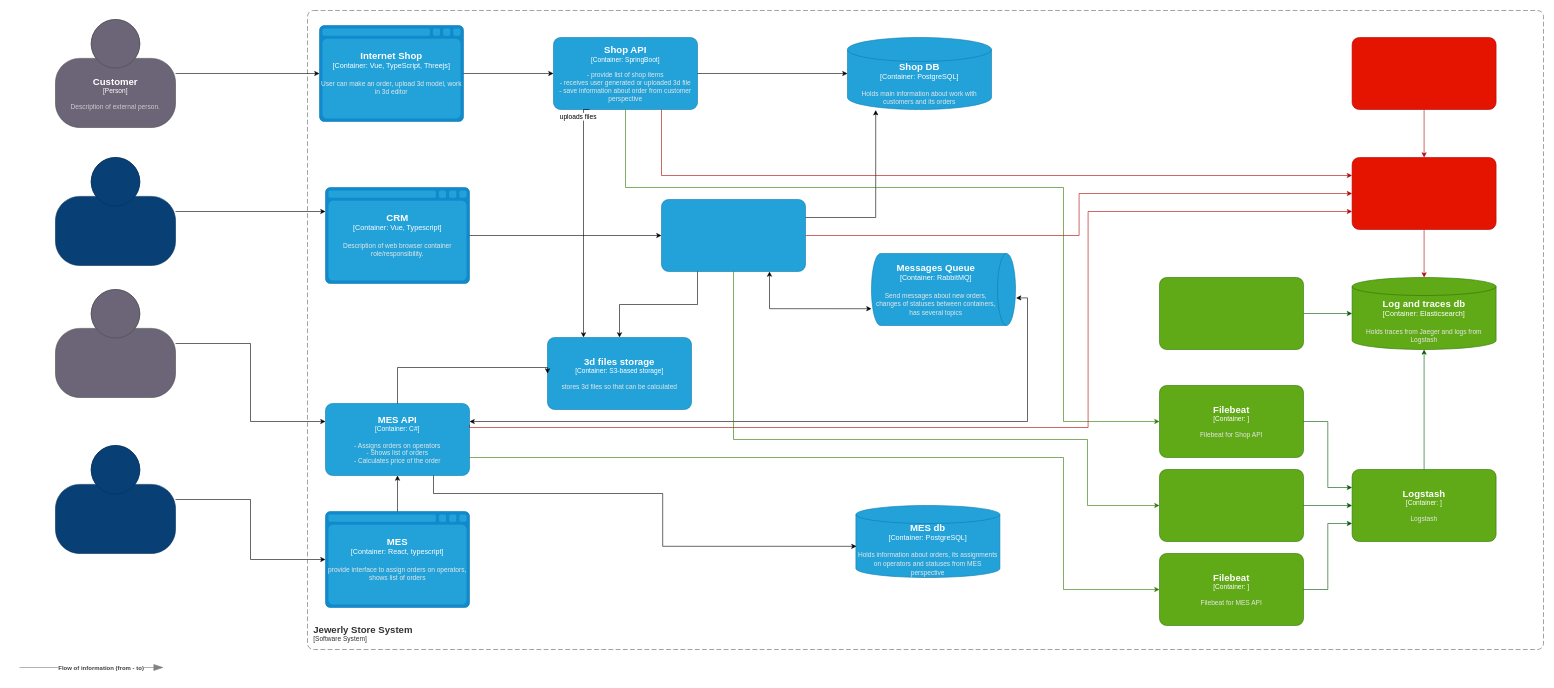
Some shapes in this 1554 by 688 pixel diagram are drawn without their labels. The centre of each missing label's shape, as x and y in pixels:
"API user [Person] Description of external person." belongs at (115,343).
"CRM API [Container: SpringBoot] Description of container role/responsibility." belongs at (733,235).
"Filebeat [Container: ] Filebeat for CRM API" belongs at (1231,505).
"Jaeger [Container: Go] Jaeger backend" belongs at (1424,193).
"Jaeger UI [Container: React] Jaeger UI" belongs at (1424,73).
"Kibana [Container: ] Kibana" belongs at (1231,313).
"Operator [Person] Takes order in work, manufactures jewerly" belongs at (115,499).
"Seller [Person] Operates with order, confirms manufacturing for the user" belongs at (115,211).
